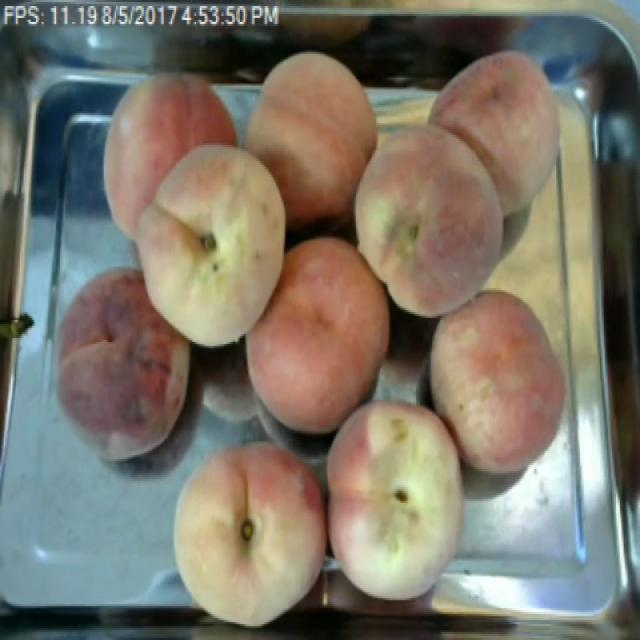Fruit: (120, 133, 303, 362), (30, 250, 214, 477), (227, 223, 404, 449), (335, 113, 520, 328), (156, 421, 328, 638), (325, 386, 479, 610), (414, 280, 582, 485), (422, 36, 586, 234), (236, 42, 392, 228), (90, 59, 250, 240)
